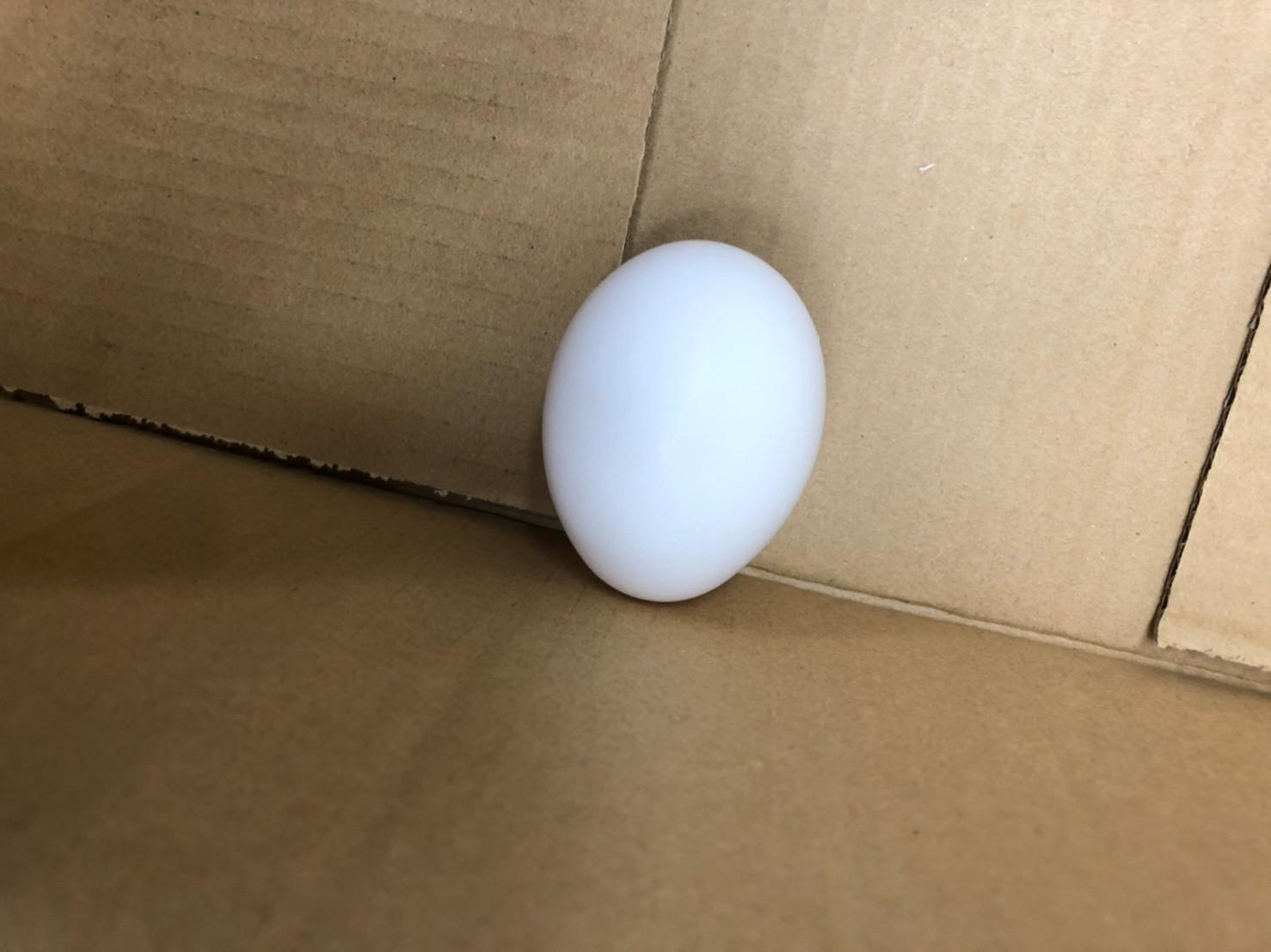egg: (536, 229, 831, 609)
